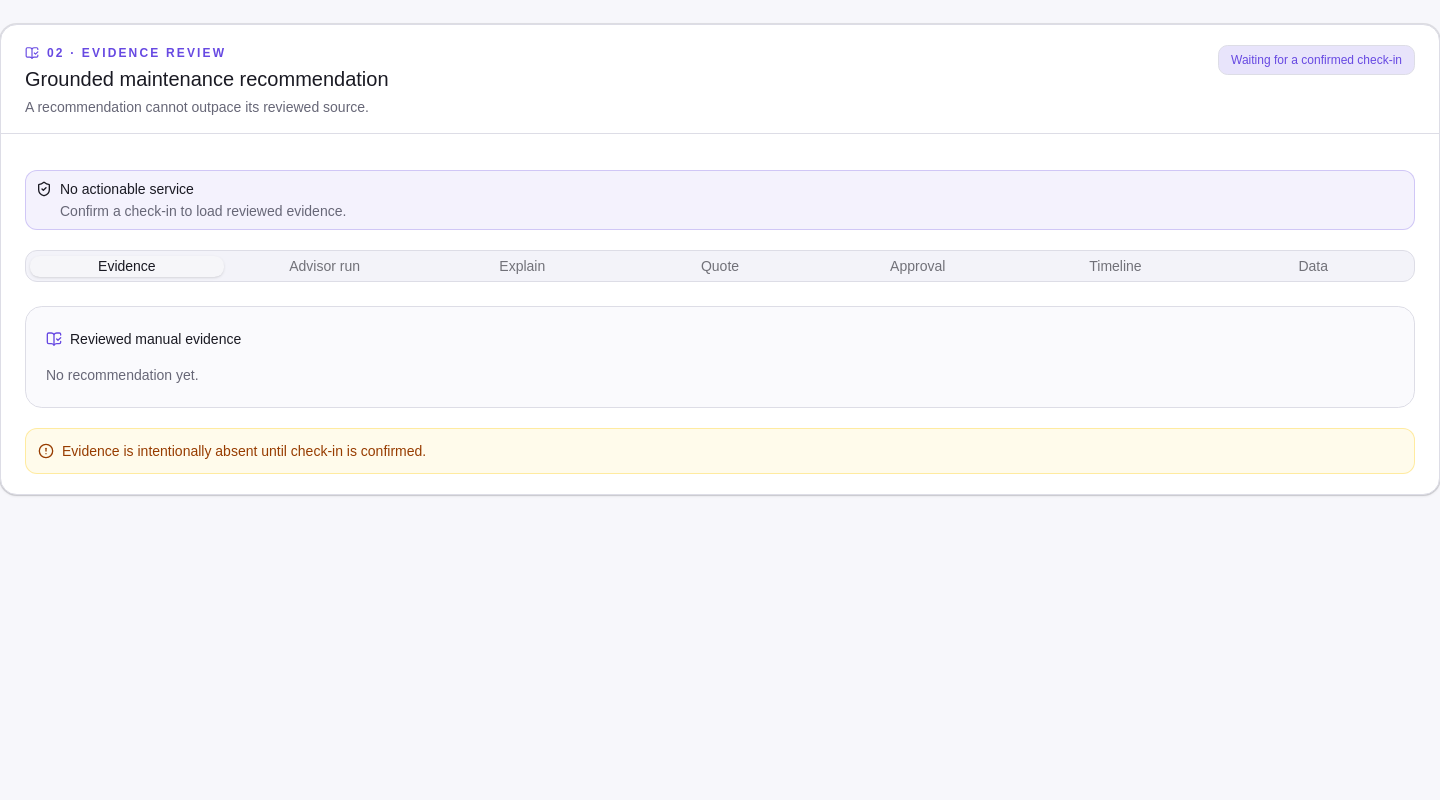
Test: routes an escalated quote to a Manager with a recorded reason
Click the tab "Approval" at (918, 266), box [821, 256, 1015, 276]
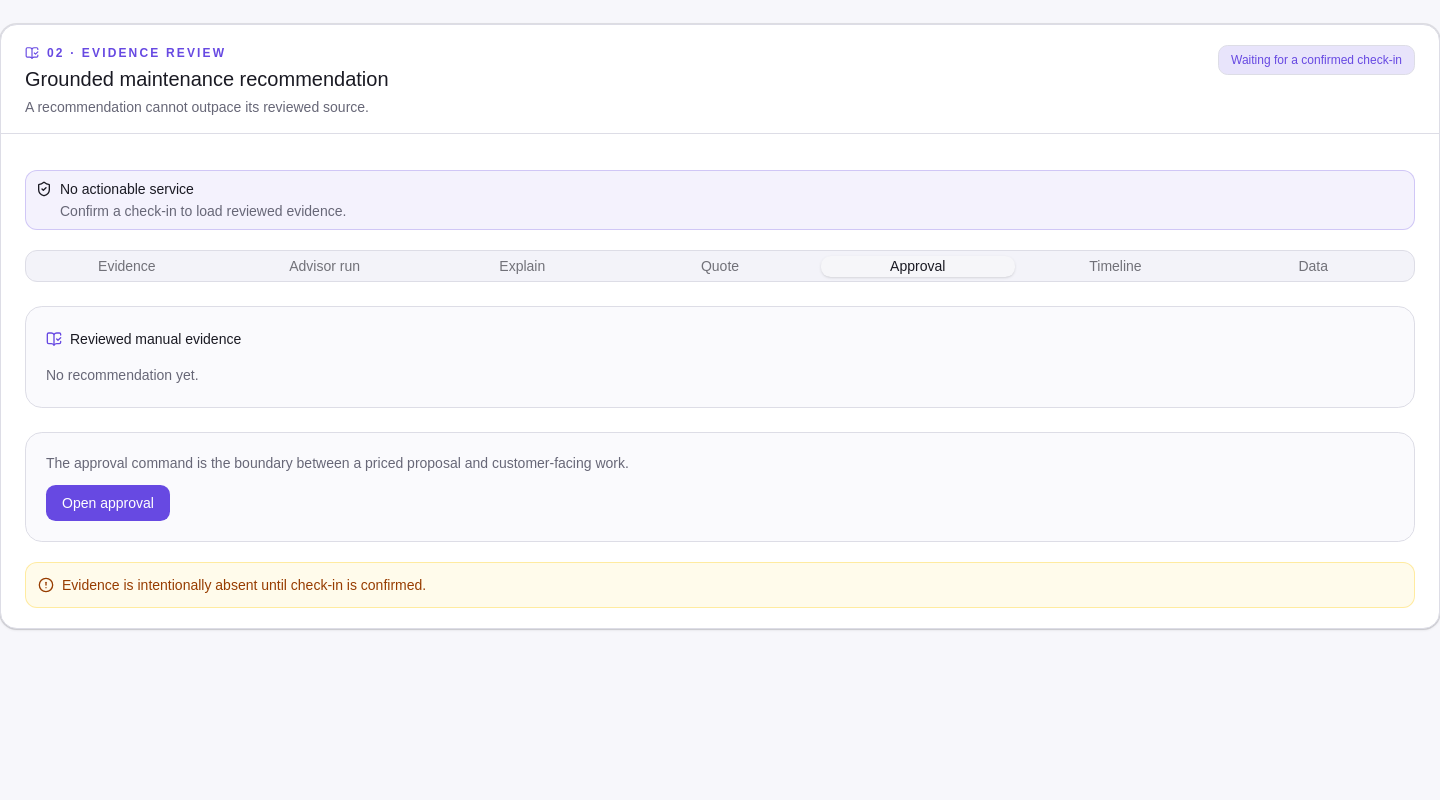
Click the button "Open approval" at (108, 503), box [46, 485, 170, 521]
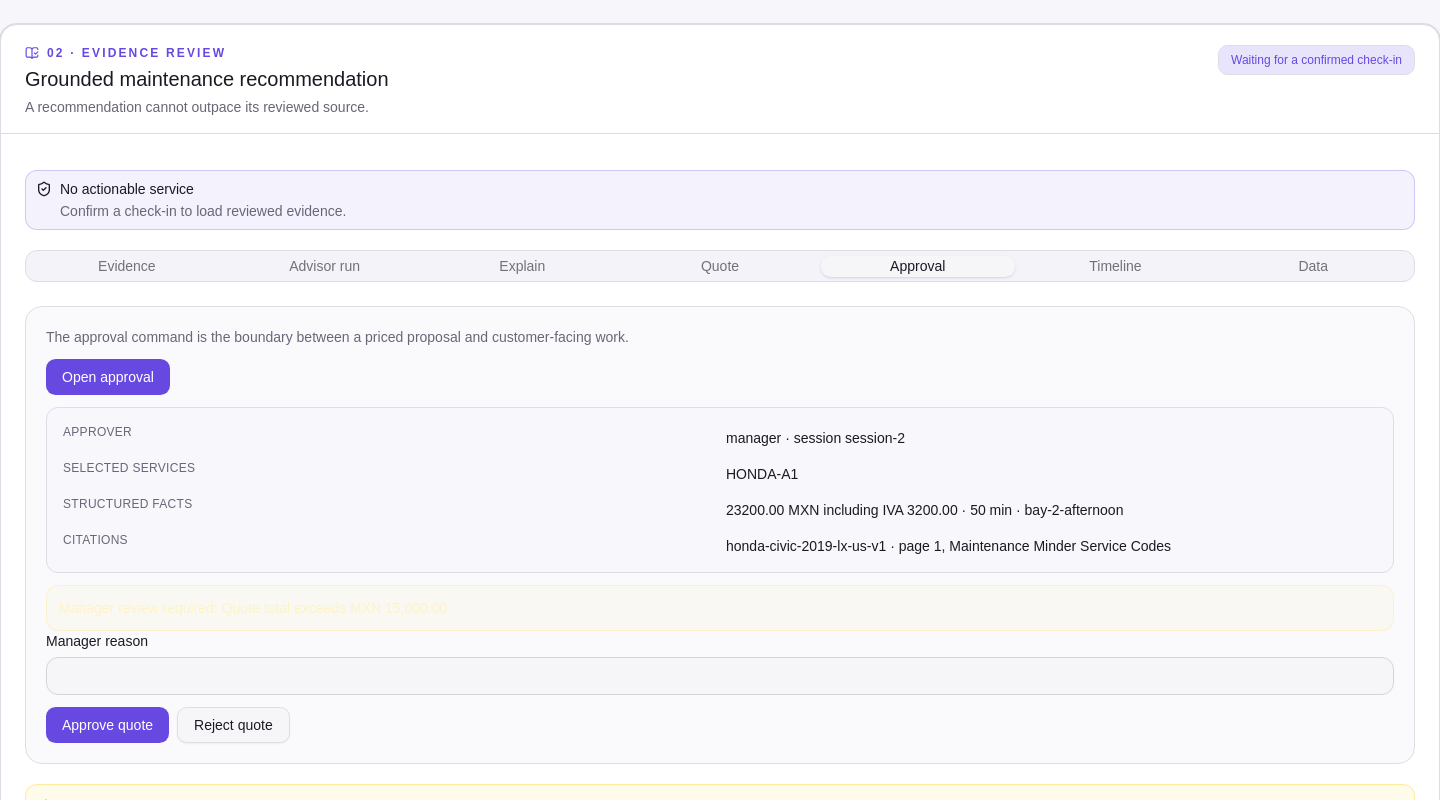
Result: the text "Manager review required: Quote total exceeds MXN 15,000.00" is shown at [46, 585, 1394, 631]
Result: the field labelled "Manager reason" is shown at [46, 657, 1394, 695]
